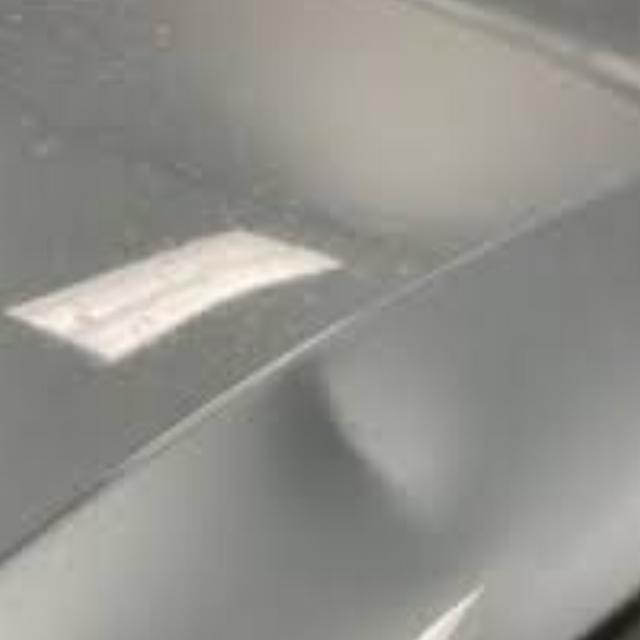dents: (263, 319, 467, 565)
